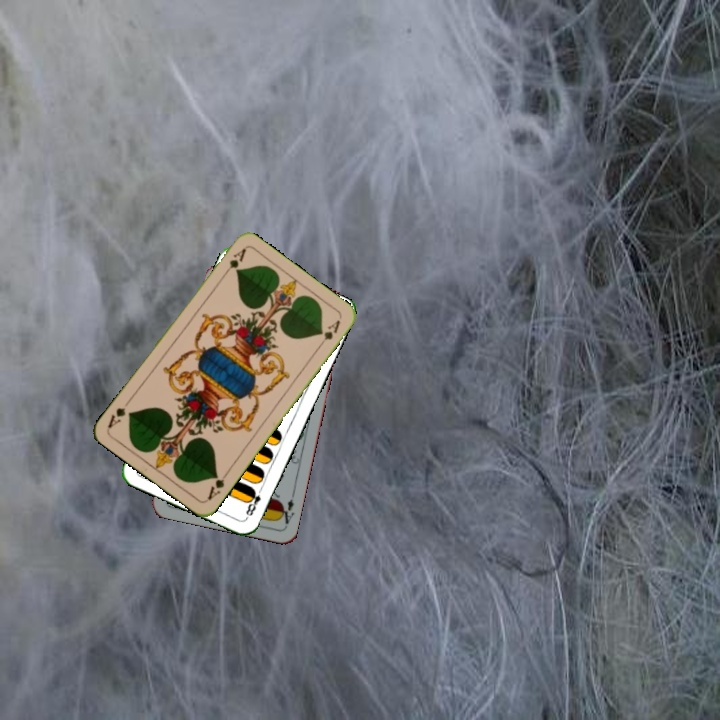E8: (242, 483, 265, 521)
EA: (275, 488, 297, 529)
GA: (219, 244, 249, 280), (203, 467, 232, 503)
